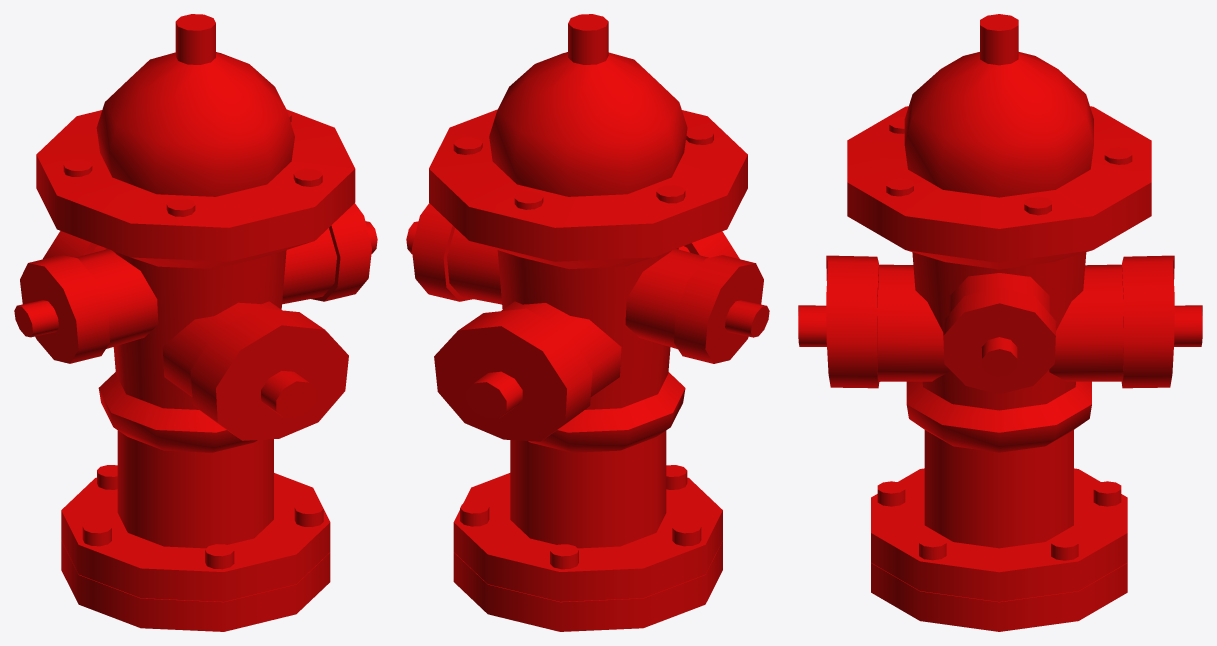
The model's file is fire-hydrent.fbx.
3 views of the same model, side by side, from view 1: azimuth 30°, elevation 25°; view 2: azimuth 150°, elevation 25°; view 3: azimuth 270°, elevation 25° (orthographic).
Parts seen in each view (by area): view 1: polySurface4; view 2: polySurface4; view 3: polySurface4.
Boxes of the visible parts, bbox=[...] form: polySurface4: bbox=[14, 14, 377, 631]; polySurface4: bbox=[406, 14, 769, 631]; polySurface4: bbox=[798, 14, 1202, 631].
Size of the model in its own units: 12.84 by 19.52 by 12.96.
